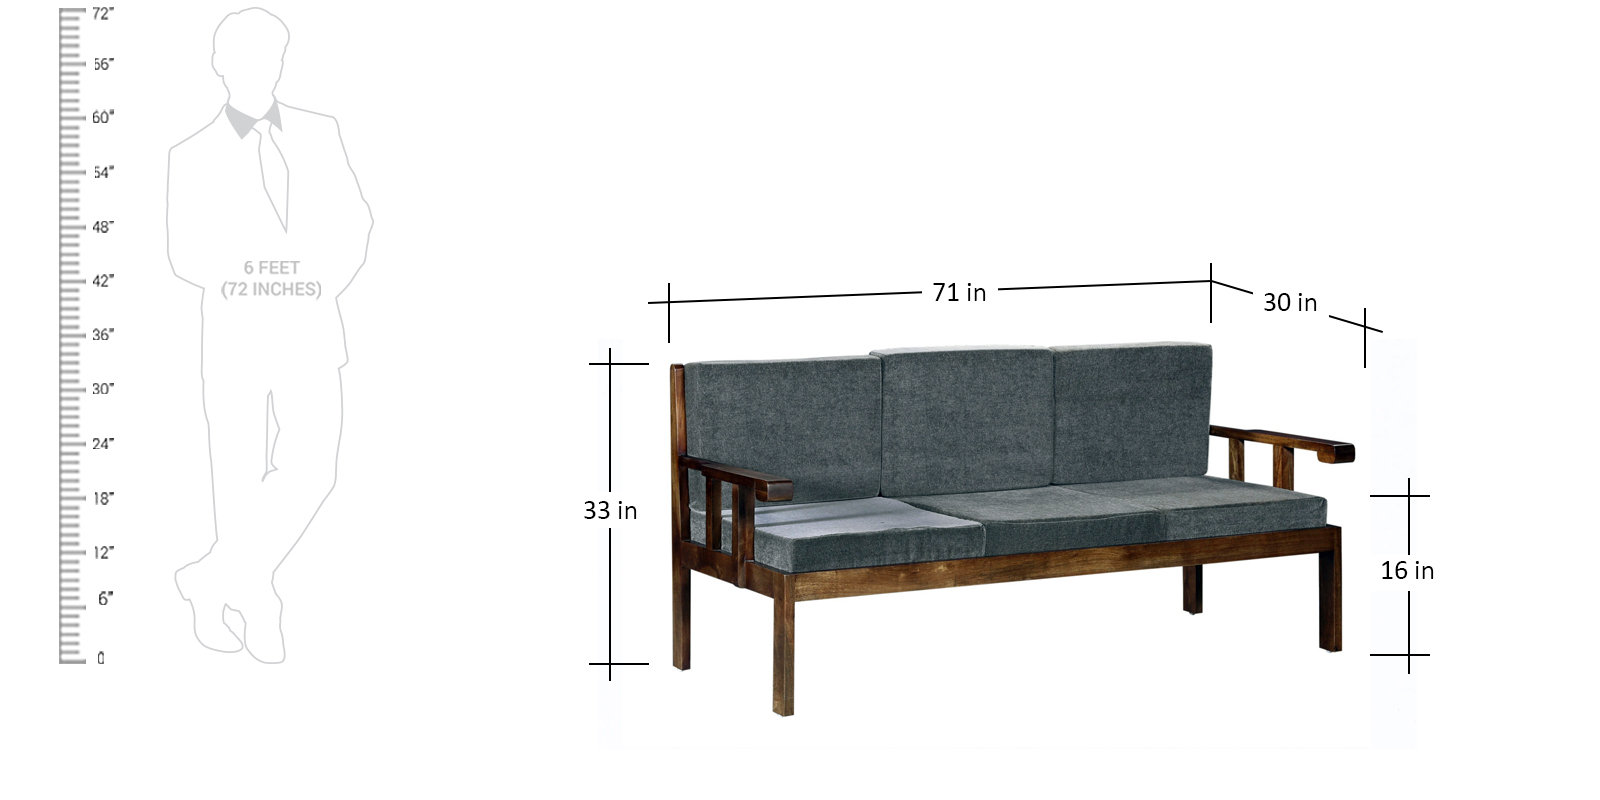Corvallis Three Seater Sofa in Provincial Teak Finish by Woodsworth: (650, 343, 1356, 689)
